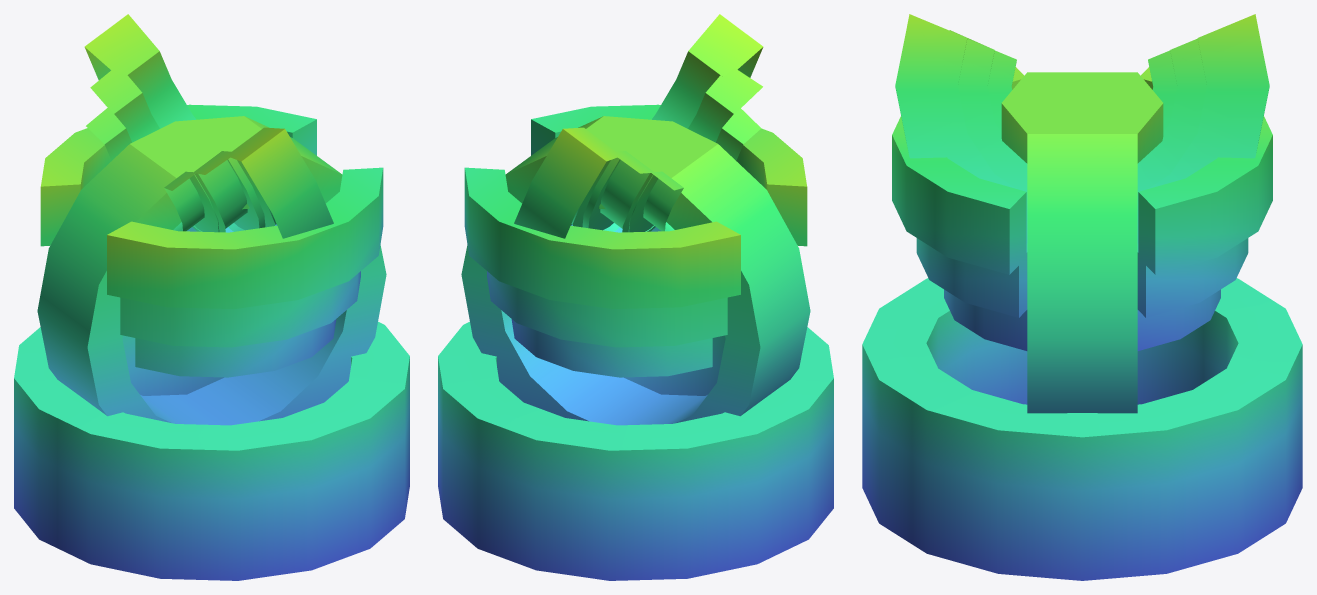
The model's file is column_lev_2.fbx.
The picture shows the model from 3 angles, left to right: view 1: azimuth 30°, elevation 25°; view 2: azimuth 150°, elevation 25°; view 3: azimuth 270°, elevation 25°; orthographic projection. The views are drawn at different scales.
Visible parts, largest first — view 1: column_lev_3; view 2: column_lev_3; view 3: column_lev_3.
Part boxes in pixels (box(x1,y1,x2,y2)): column_lev_3: box(14, 14, 409, 580); column_lev_3: box(438, 14, 833, 580); column_lev_3: box(862, 14, 1302, 580).
Bounding box in the file's own units: 531 × 627 × 531.
